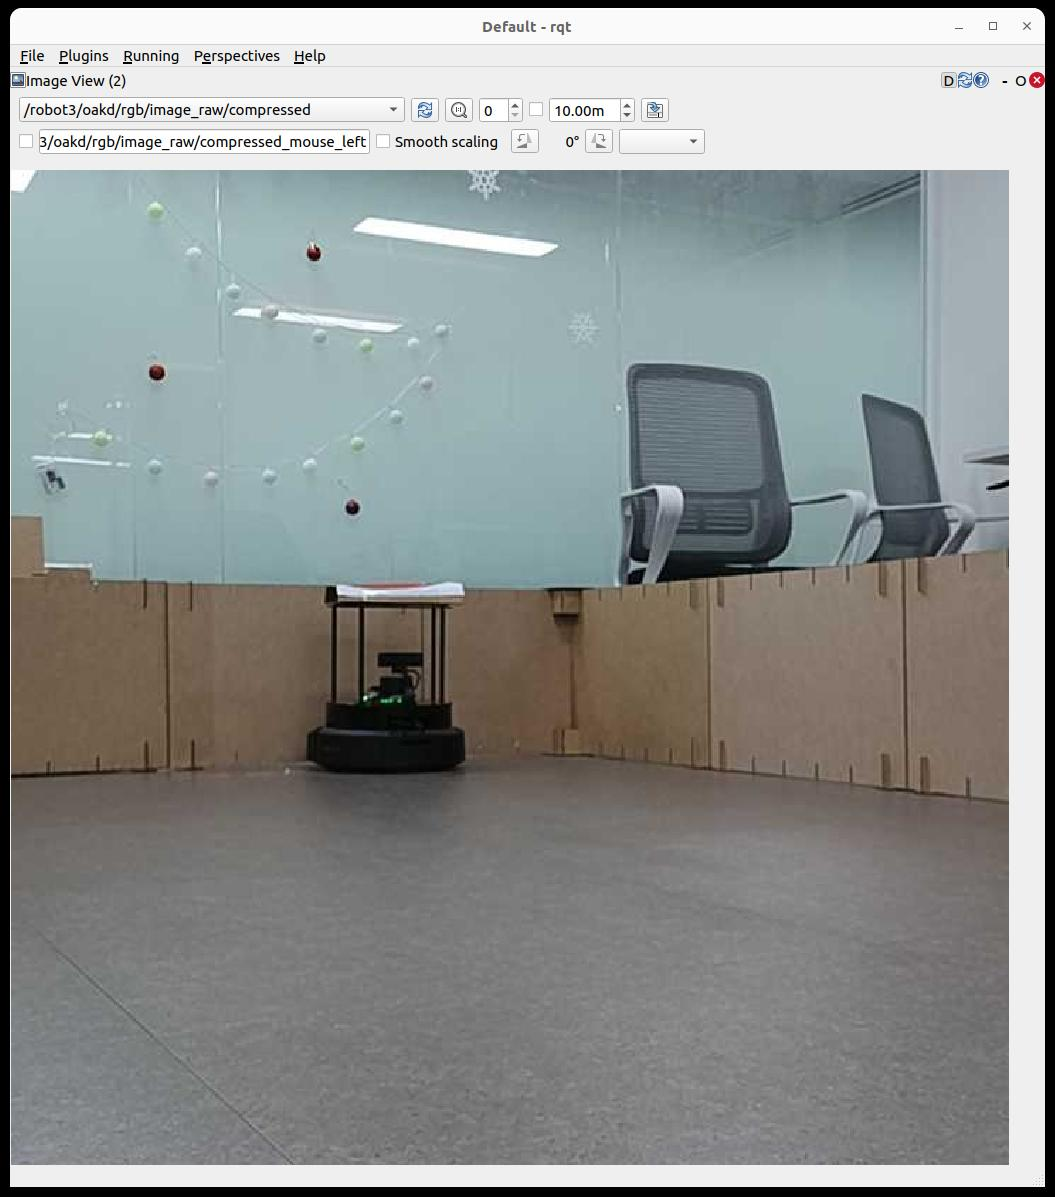AED: (338, 582, 464, 599)
Robot: (307, 598, 465, 772)
